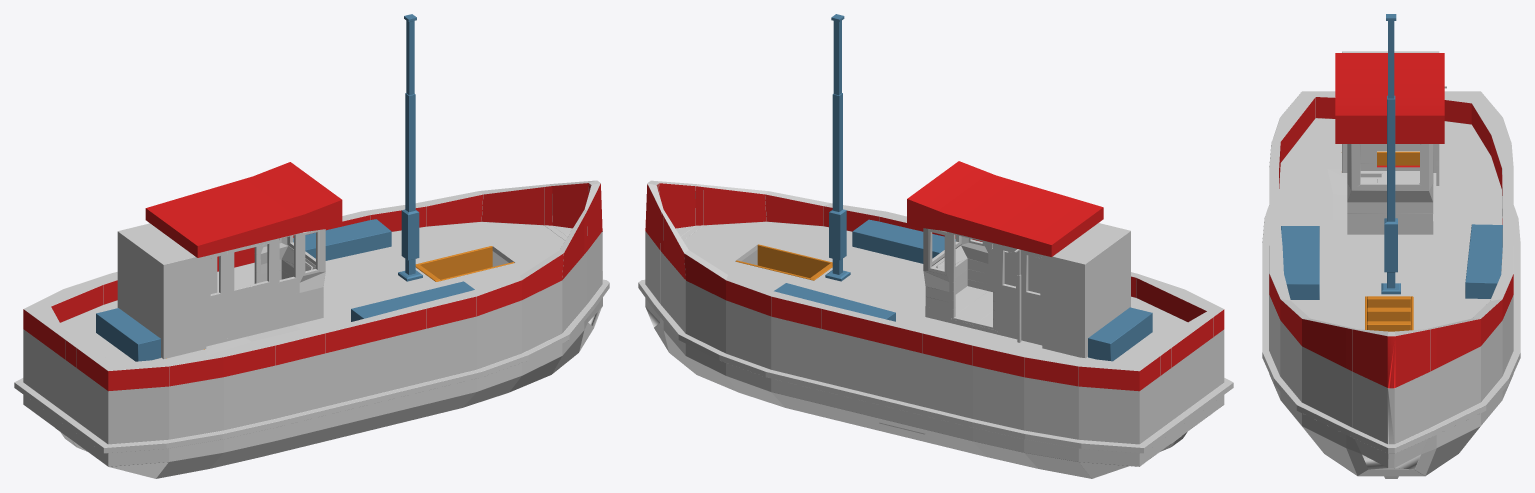
Rendered from Fiskerbåd_Færdig_Test.fbx.
The picture shows the model from 3 angles, left to right: view 1: azimuth 30°, elevation 25°; view 2: azimuth 150°, elevation 25°; view 3: azimuth 270°, elevation 25°; orthographic projection. The views are drawn at different scales.
Parts seen in each view (by area): view 1: Cube_3_4, Kahytten, Floor, Baglokale_1, Mast, Cube_2_5, Cube_2_4, Trappe_1, Cube_2_6; view 2: Cube_3_4, Kahytten, Floor, Baglokale_1, Mast, Cube_2_6, Cube_2_4, Trappe_1, Cube_2_5; view 3: Cube_3_4, Floor, Kahytten, Mast, Cube_2_6, Cube_2_5, Trappe_1, Baglokale_1, Trappe_2.
Part boxes in pixels (x1,y1,x2,y2): Cube_3_4: (14, 180, 609, 478); Kahytten: (145, 162, 342, 346); Floor: (61, 222, 564, 363); Baglokale_1: (117, 223, 206, 359); Mast: (398, 14, 422, 281); Cube_2_5: (293, 219, 391, 260); Cube_2_4: (96, 308, 160, 361); Trappe_1: (415, 246, 514, 281); Cube_2_6: (351, 281, 474, 321); Cube_3_4: (638, 180, 1233, 478); Kahytten: (907, 161, 1103, 345); Floor: (683, 221, 1187, 362); Baglokale_1: (1042, 223, 1130, 358); Mast: (825, 14, 850, 281); Cube_2_6: (852, 219, 955, 263); Cube_2_4: (1088, 307, 1152, 361); Trappe_1: (735, 244, 832, 280); Cube_2_5: (774, 283, 895, 321); Cube_3_4: (1262, 91, 1520, 478); Floor: (1279, 118, 1502, 329); Kahytten: (1335, 53, 1444, 234); Mast: (1381, 14, 1400, 294); Cube_2_6: (1281, 226, 1319, 299); Cube_2_5: (1465, 224, 1502, 298); Trappe_1: (1365, 296, 1413, 331); Baglokale_1: (1342, 51, 1439, 172); Trappe_2: (1341, 151, 1419, 165).
Size of the model in its own units: 1223 by 793 by 473.
